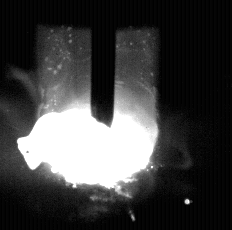arame: (92, 0, 116, 127)
poca: (35, 0, 156, 230)
